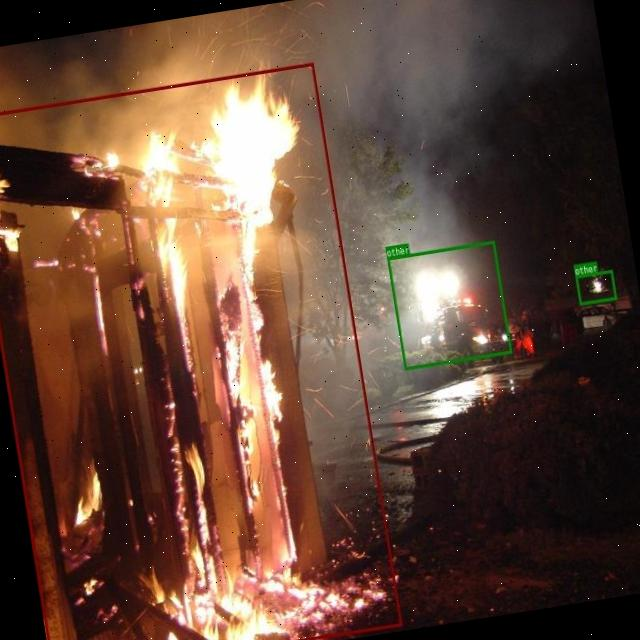fire: (0, 62, 402, 640)
